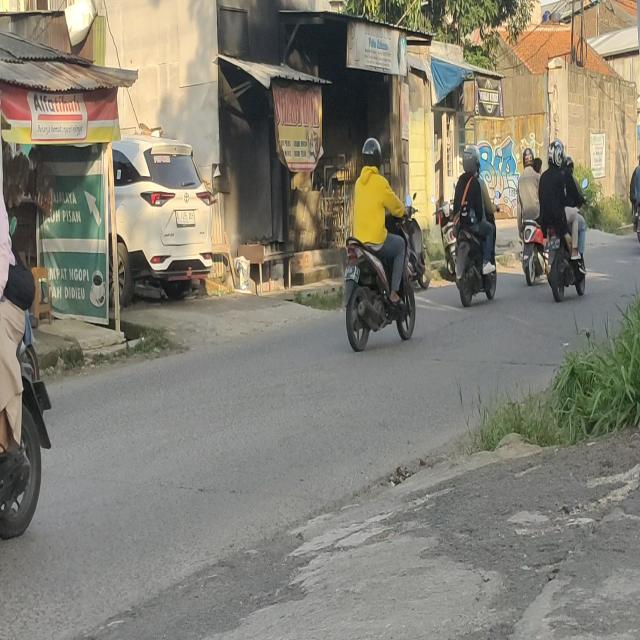helmet: (362, 136, 382, 169), (462, 143, 478, 173), (548, 141, 563, 169), (523, 147, 534, 166), (566, 156, 574, 174)
no-helmet: (535, 157, 542, 174)
